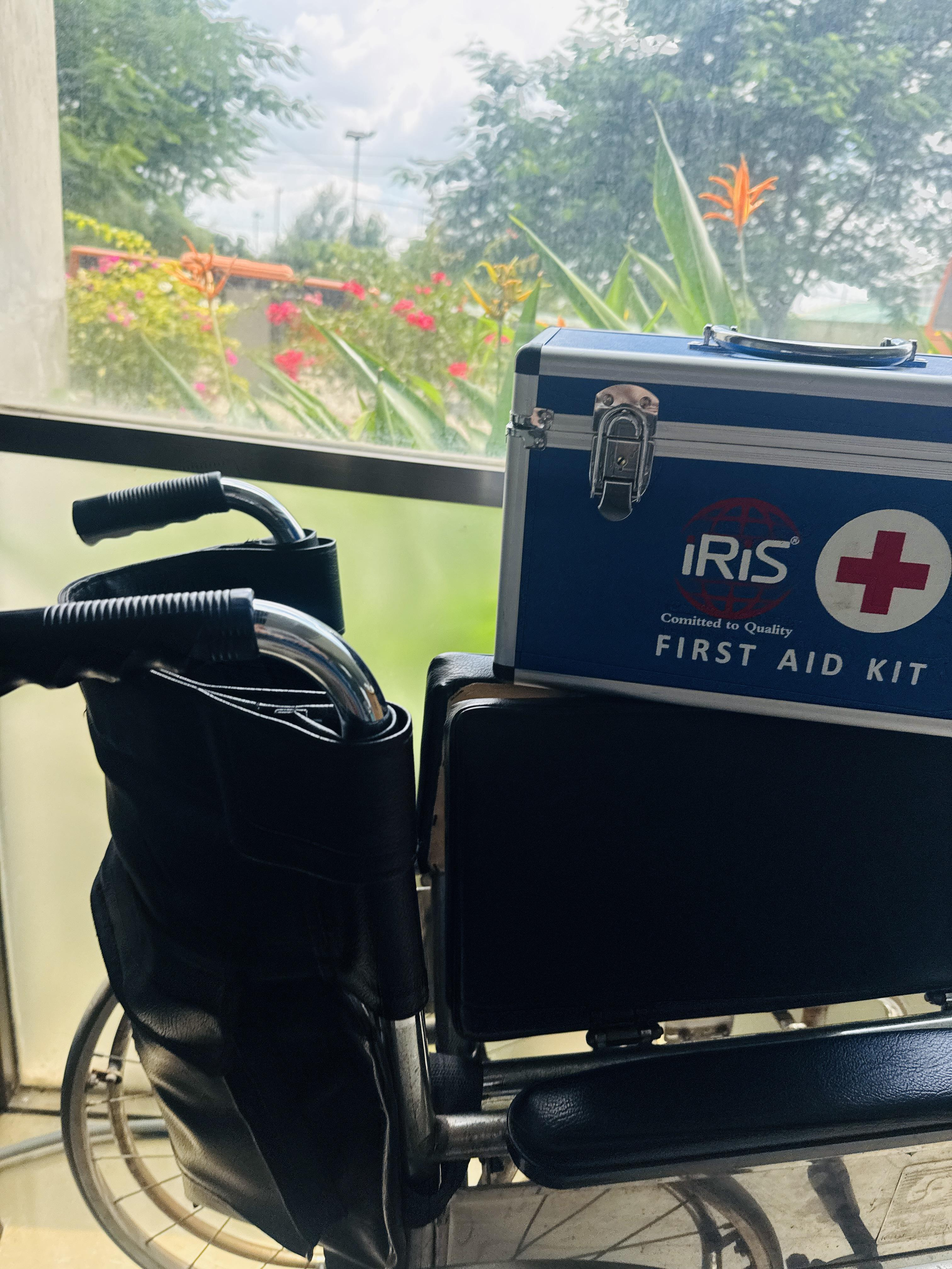FirstAidBox: (482, 290, 952, 763)
